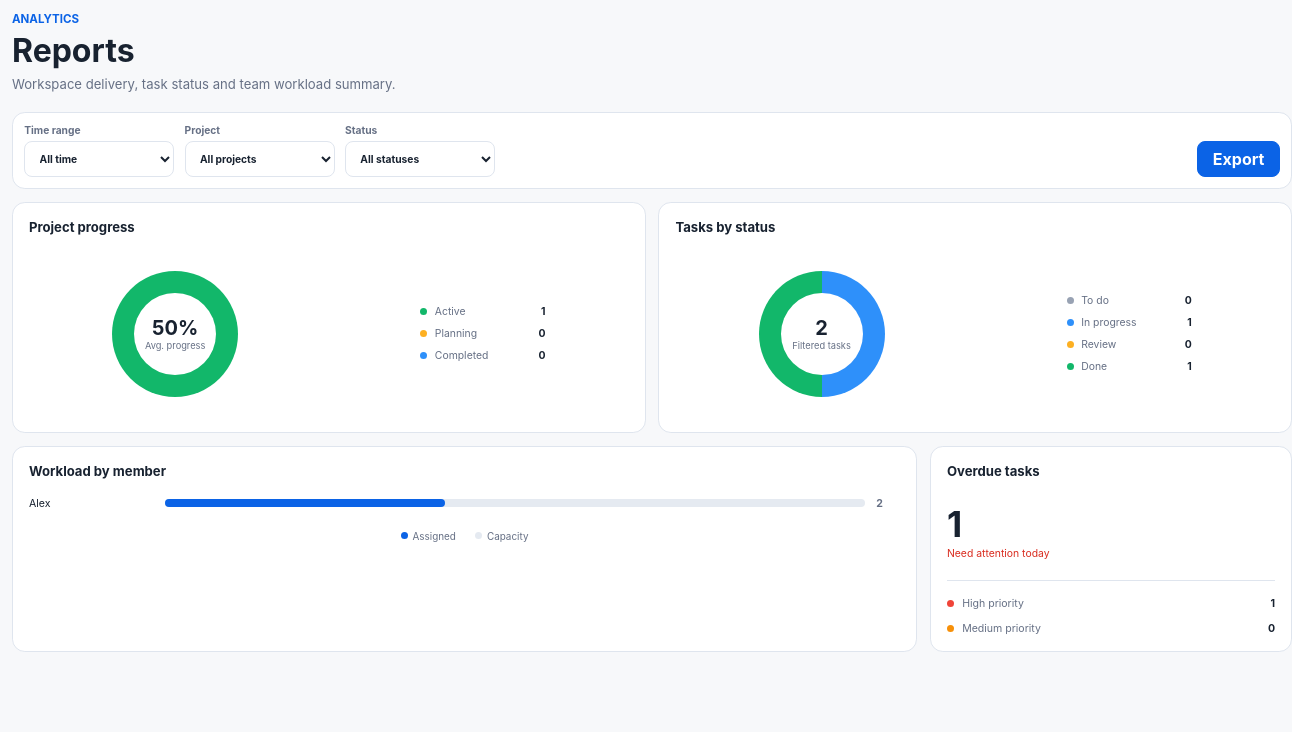
report filters › derives the task chart from the selected status
Expected: the picture named "Tasks by status: 2" is shown, [758, 271, 884, 397]
Select "Done" in the dropdown labelled "Status": (420,159) [345, 141, 495, 177]
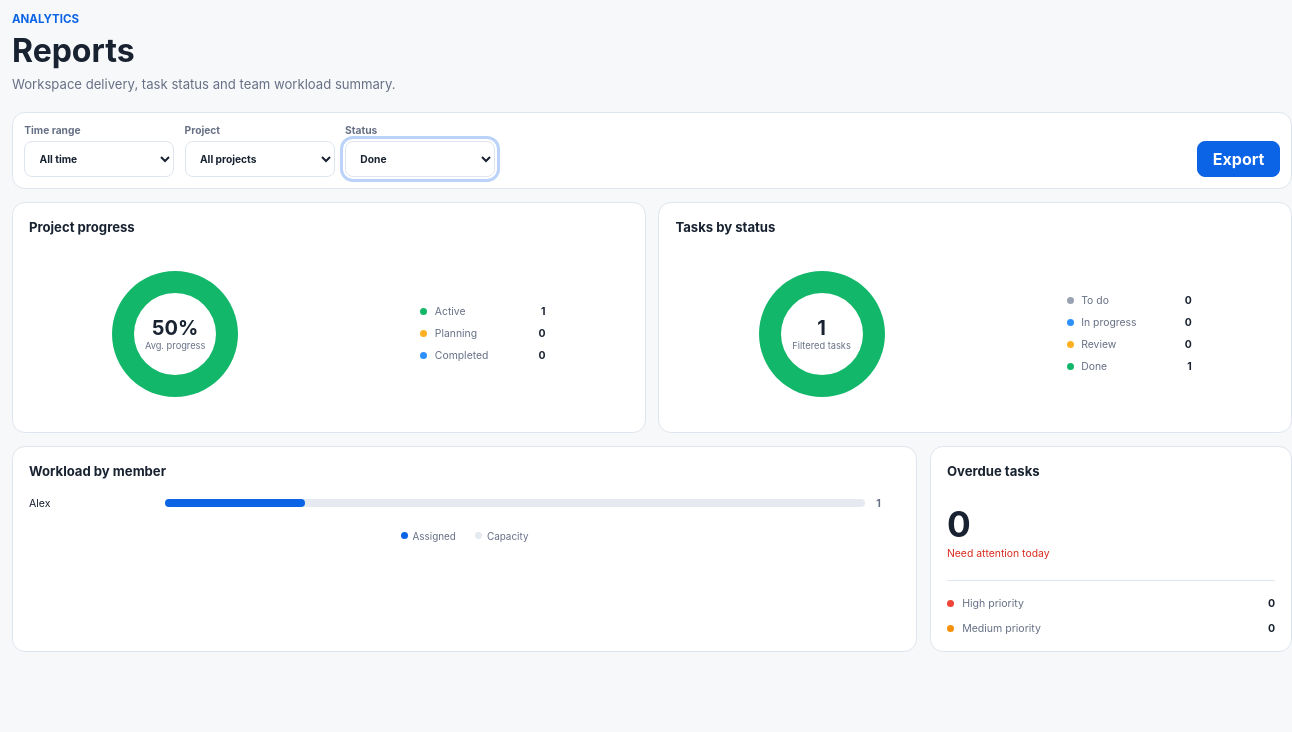
Result: the picture named "Tasks by status: 1" is shown at [758, 271, 884, 397]
